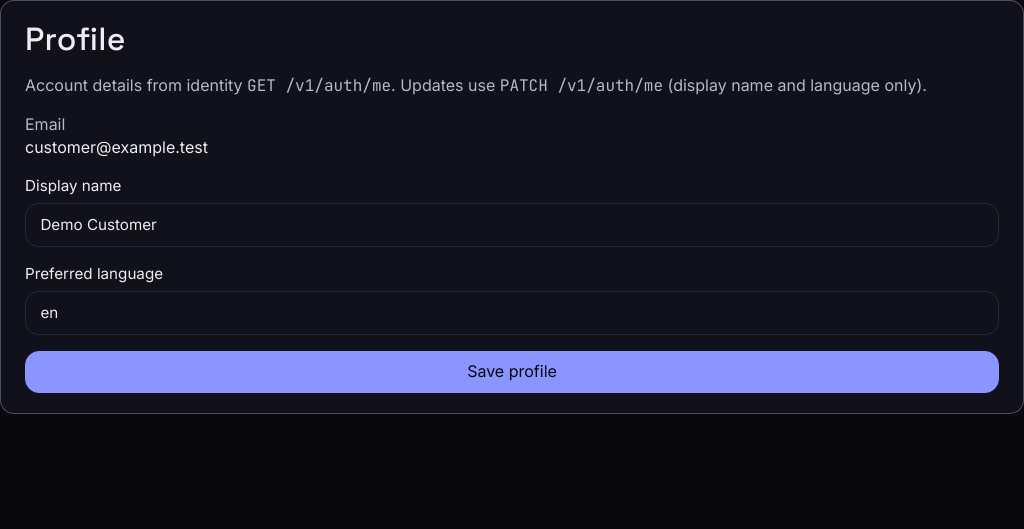
customer profile + notifications › profile peer failure on save shows peer-error — form stays
The width and height of the screenshot is (1024, 529).
Click the button with test id "profile-save" at (512, 372), box x1=25 y1=351 x2=999 y2=393
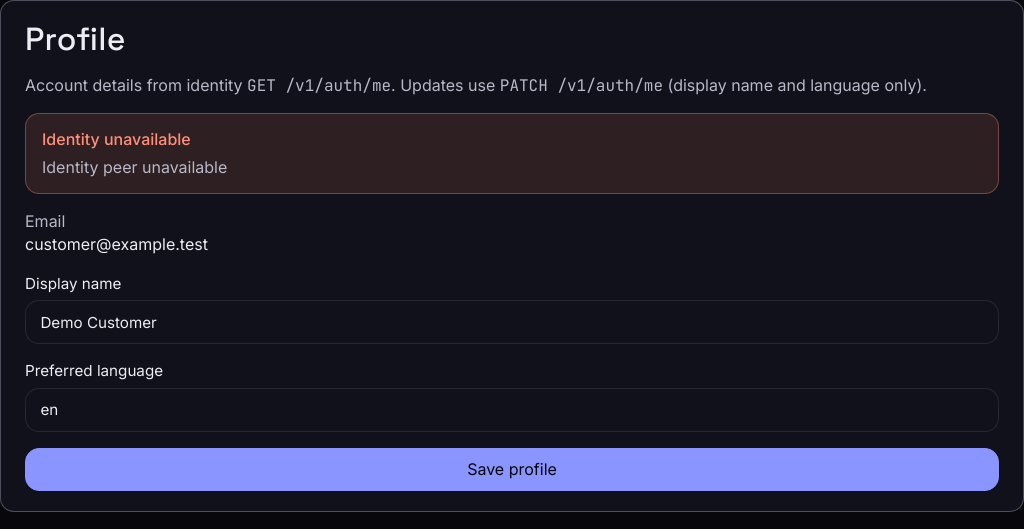
Expected: the button with test id "profile-save" is shown, x1=25 y1=448 x2=999 y2=491
Now the message "Identity unavailable Identity peer unavailable" is shown, box x1=25 y1=113 x2=999 y2=194
